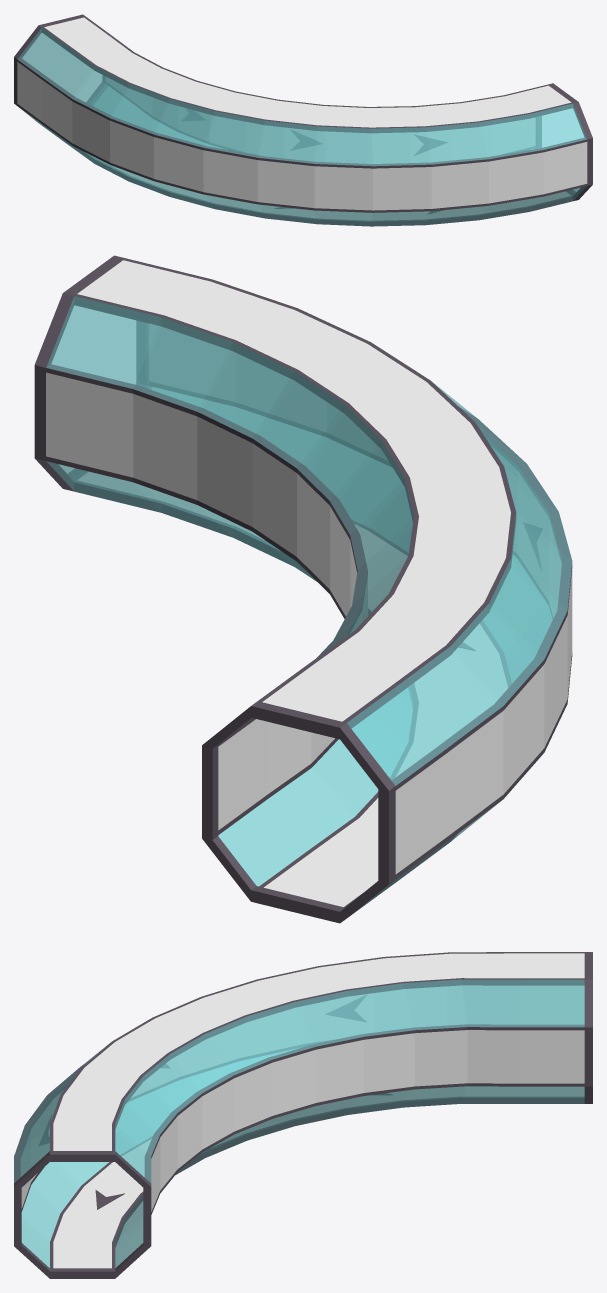
File: TunnelSection04.fbx
The picture shows the model from 3 angles, top to bottom: view 1: azimuth 30°, elevation 25°; view 2: azimuth 150°, elevation 25°; view 3: azimuth 270°, elevation 25°; orthographic projection. The views are drawn at different scales.
Parts seen in each view (by area): view 1: TunnelSection04; view 2: TunnelSection04; view 3: TunnelSection04.
Part boxes in pixels (x1,y1,x2,y2): TunnelSection04: (14, 14, 592, 226); TunnelSection04: (34, 255, 572, 923); TunnelSection04: (14, 952, 592, 1278).
Size of the model in its own units: 158 by 42 by 177.
